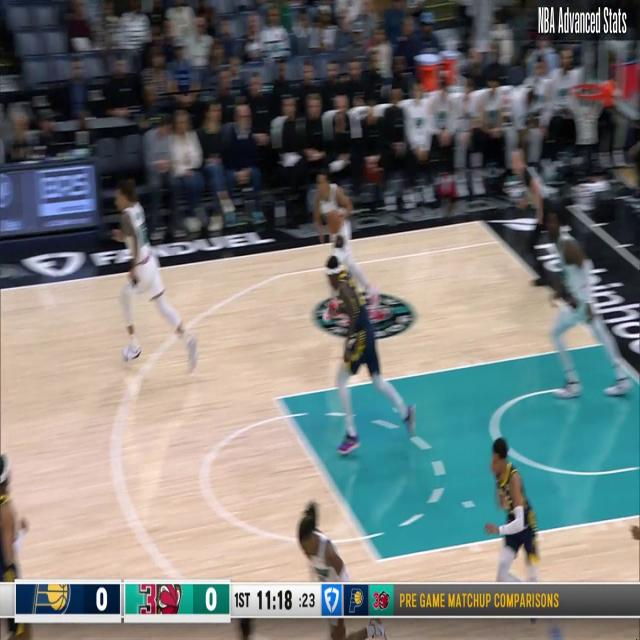ball: (327, 210, 345, 235)
player: (535, 199, 640, 407), (323, 256, 411, 456), (112, 177, 200, 372), (297, 503, 392, 634), (483, 435, 546, 624), (312, 171, 372, 297), (1, 455, 32, 631)
